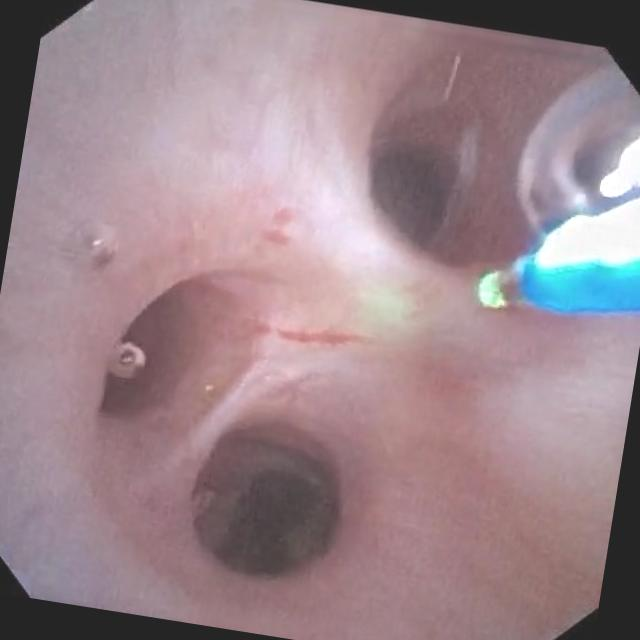laser-fibre: (482, 268, 527, 306)
laser_dot: (365, 286, 414, 325)
stone-new: (218, 473, 326, 573)
